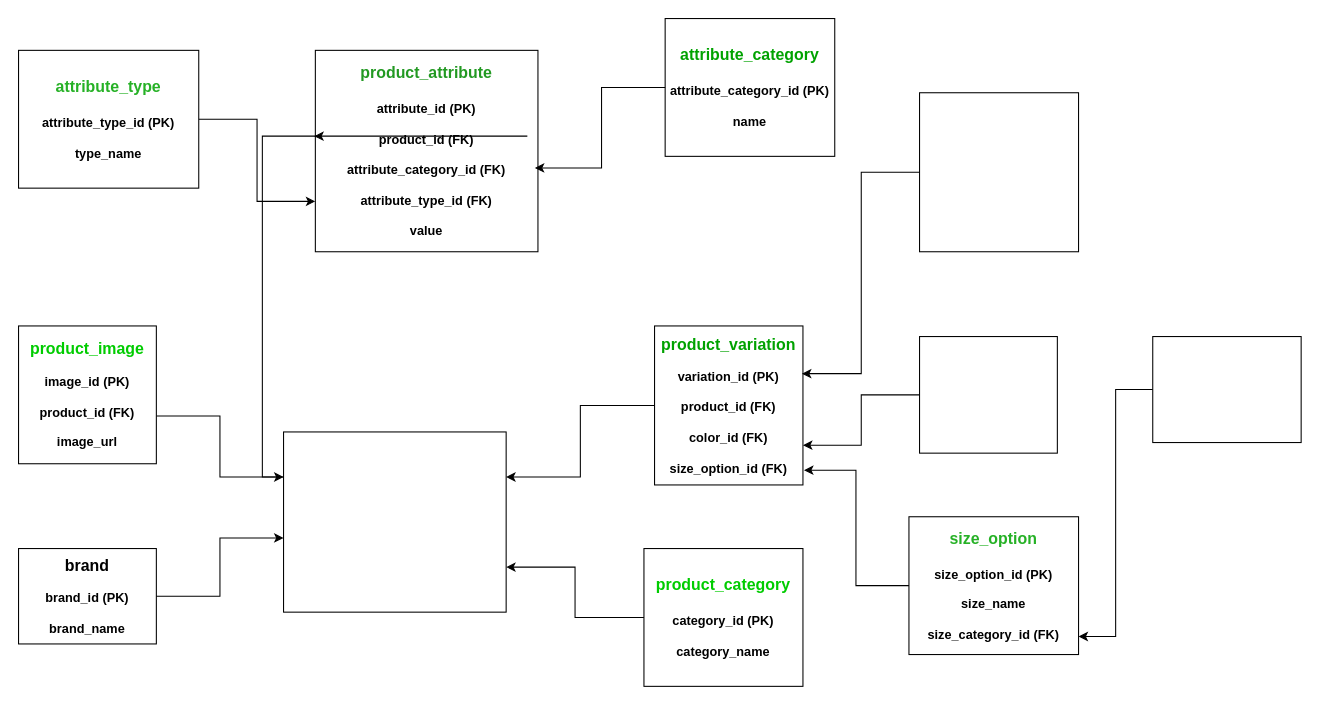
The diagram is 1320 pixels wide and 705 high, and some of its shapes have lost their labels. Each missing label, with the centre of its shape:
"color color_id (PK) color_name" goes at [987,394].
"product product_id (PK) name brand_id (FK) category_id (FK) base_price" goes at [394,521].
"product_item item_id (PK) variation_id (FK) stock_quantity price_override" goes at [998,172].
"size_category size_category_id (PK) name" goes at [1226,389].
